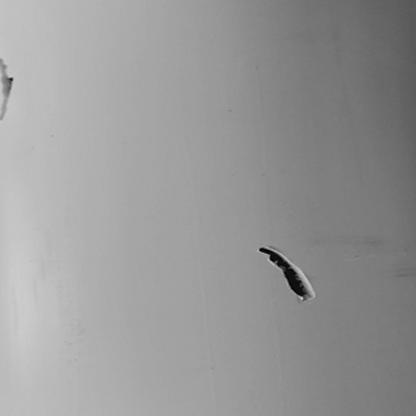kongdong: (253, 235, 322, 304), (1, 53, 23, 119)
